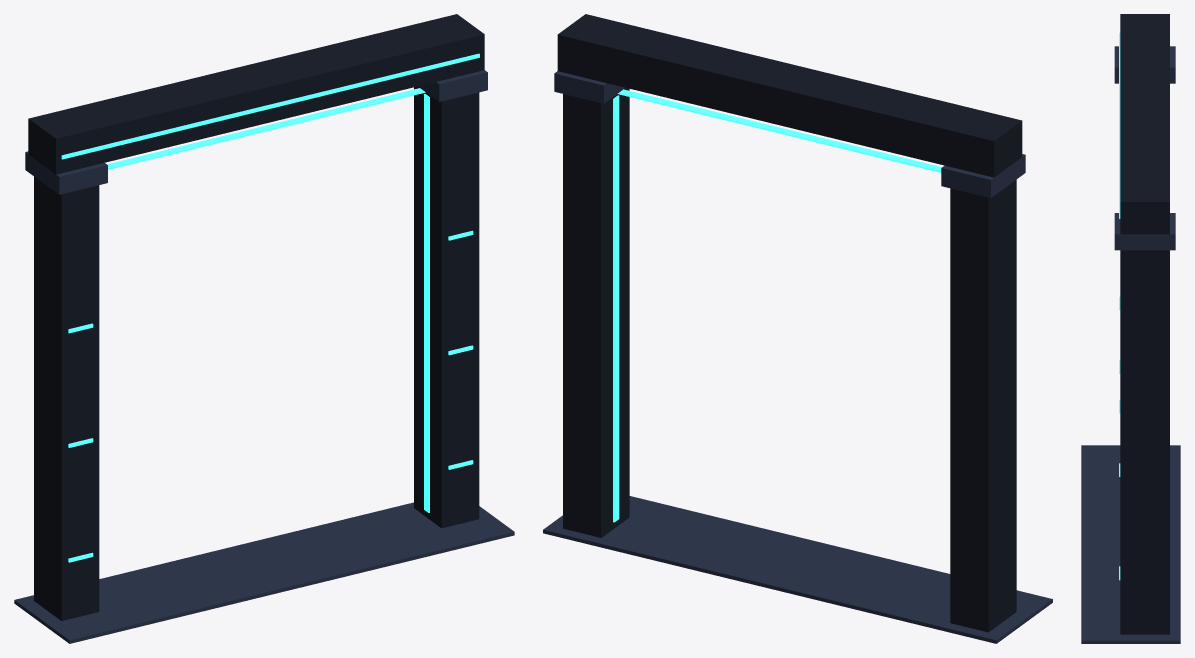
The picture shows the model from 3 angles, left to right: view 1: azimuth 30°, elevation 25°; view 2: azimuth 150°, elevation 25°; view 3: azimuth 270°, elevation 25°; orthographic projection. The views are drawn at different scales.
Parts seen in each view (by area): view 1: nexo_gate.lod0; view 2: nexo_gate.lod0; view 3: nexo_gate.lod0.
Part boxes in pixels (x1,y1,x2,y2): nexo_gate.lod0: (14, 14, 514, 643); nexo_gate.lod0: (543, 14, 1052, 643); nexo_gate.lod0: (1081, 14, 1180, 643).
Bounding box in the file's own units: 6.5 × 6.8 × 1.4.
